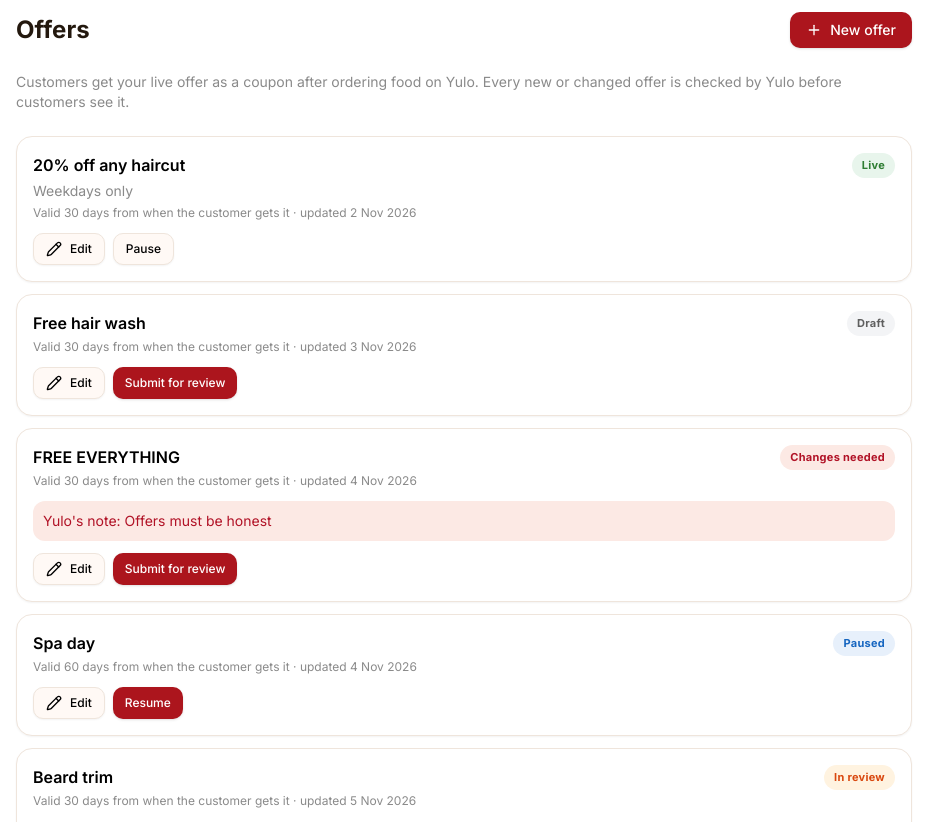
it: Offers › editing a draft shows no review warning
Click the button "Edit" below "Free hair wash". click: click(69, 383)
box: x1=33 y1=367 x2=105 y2=399
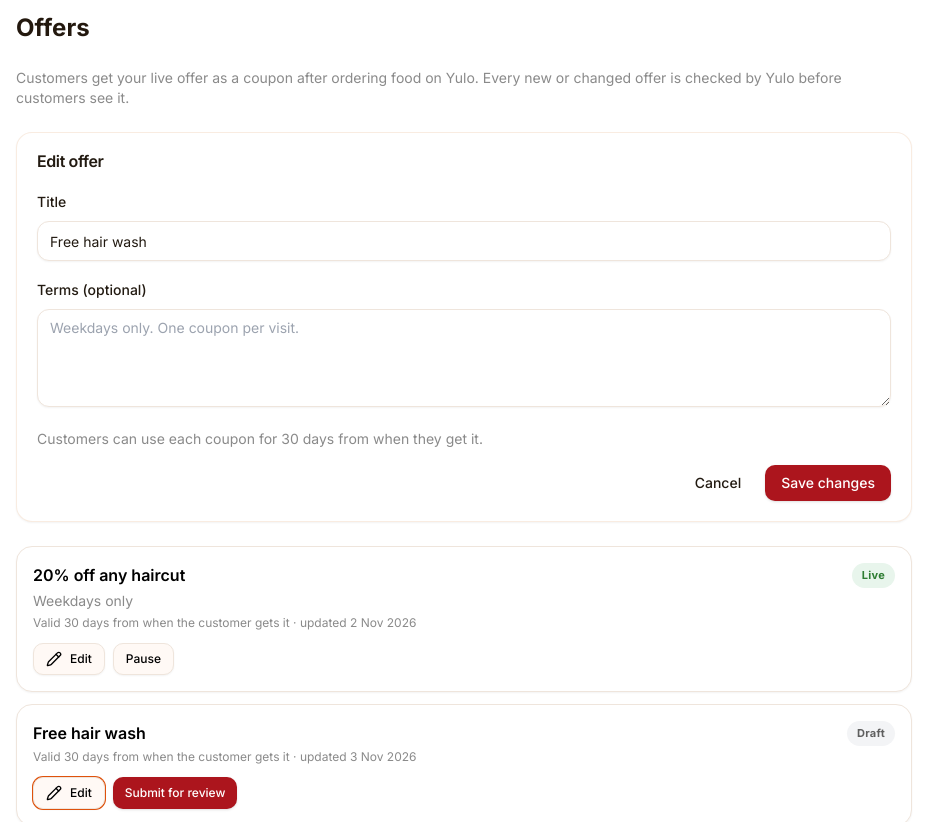
Click the button "Cancel". click: click(718, 483)
box: x1=679 y1=465 x2=757 y2=501
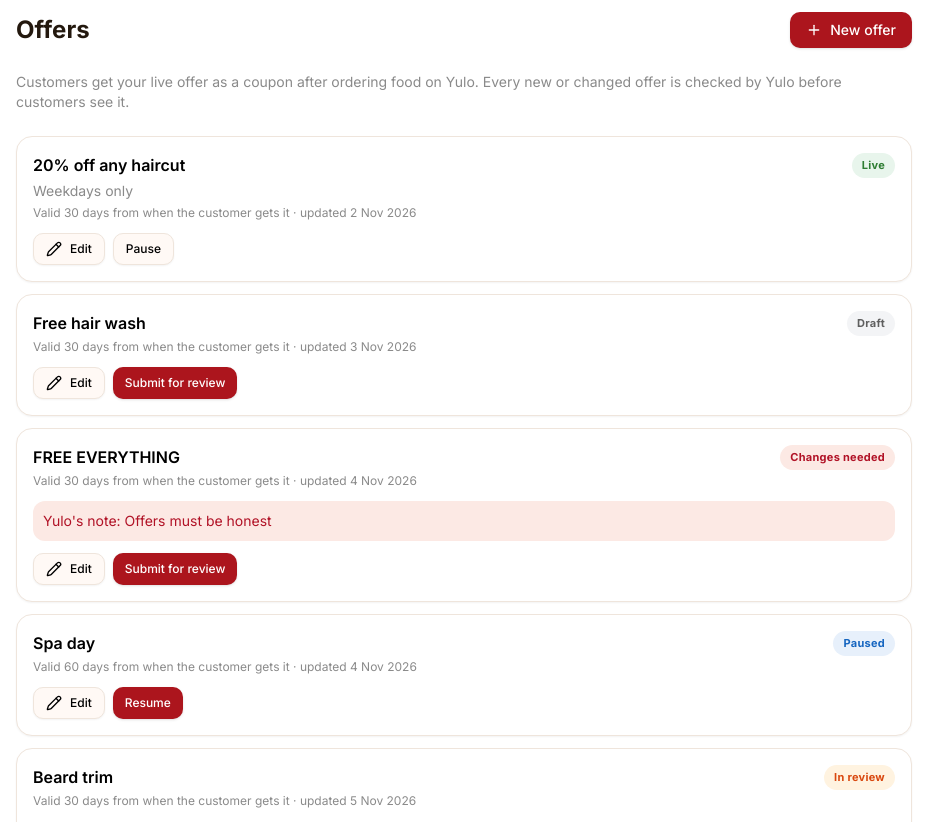
Result: the label labelled "Title" is gone
